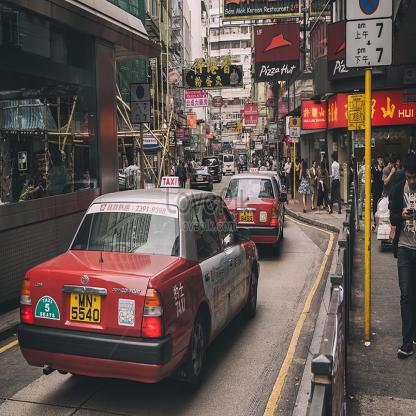taxi: (17, 172, 264, 406)
